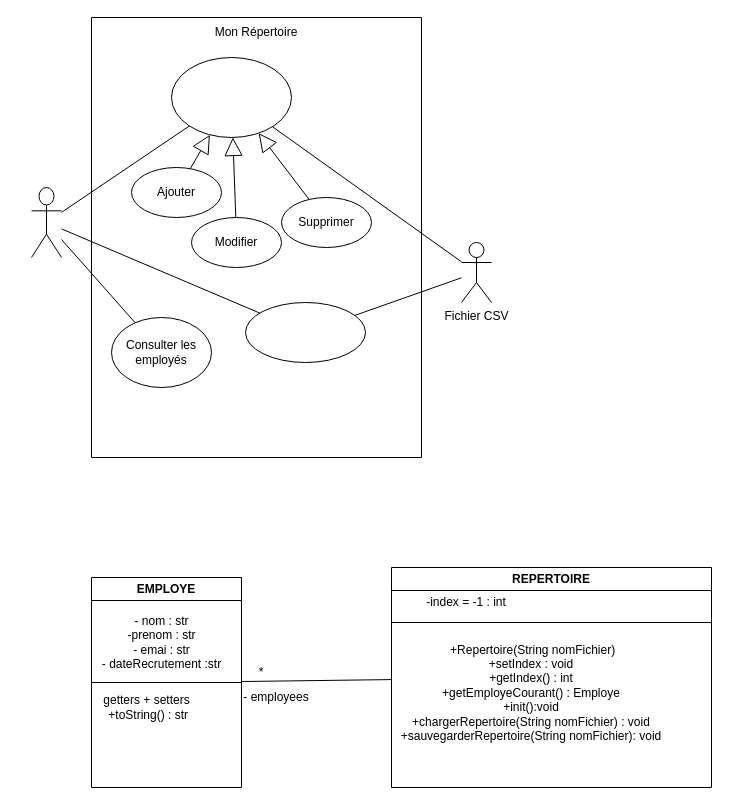
The diagram is 730 pixels wide and 805 high, and some of its shapes have lost their labels. Each missing label, with the centre of its shape:
Gérer les employés: [231,97]
Sauvegarder la base de données: [305,332]
Secrétariat: [46,222]
